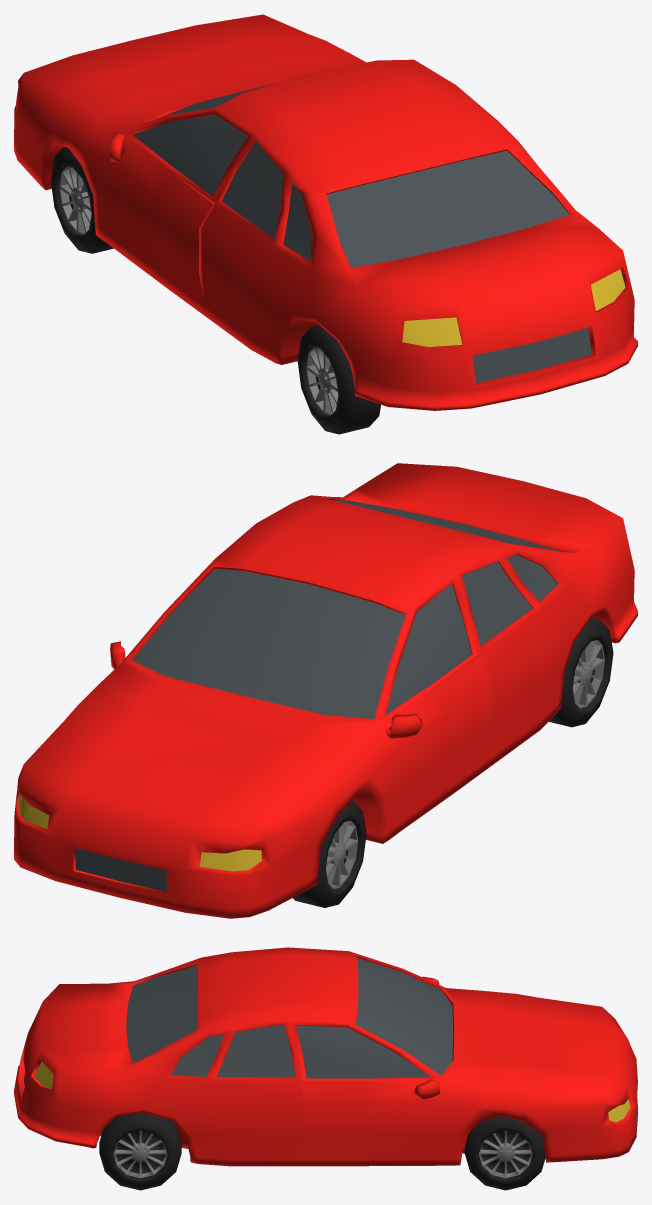
Rendered from Car 2.fbx.
The picture shows the model from 3 angles, top to bottom: view 1: azimuth 30°, elevation 25°; view 2: azimuth 150°, elevation 25°; view 3: azimuth 270°, elevation 25°; orthographic projection. The views are drawn at different scales.
Parts seen in each view (by area): view 1: Car 2, Car 2 Wheels, Car 2 Left; view 2: Car 2, Car 2 Wheels, Car 2 Left; view 3: Car 2, Car 2 Wheels, Car 2 Right.
Part boxes in pixels (bbox=[...]): Car 2: bbox=[14, 14, 637, 410]; Car 2 Wheels: bbox=[297, 325, 380, 434]; Car 2 Left: bbox=[51, 147, 113, 253]; Car 2: bbox=[14, 463, 637, 918]; Car 2 Wheels: bbox=[549, 617, 613, 727]; Car 2 Left: bbox=[293, 800, 366, 907]; Car 2: bbox=[14, 947, 637, 1166]; Car 2 Wheels: bbox=[99, 1113, 181, 1190]; Car 2 Right: bbox=[464, 1116, 545, 1190].
Bounding box in the file's own units: 1.81 × 1.24 × 4.22.
